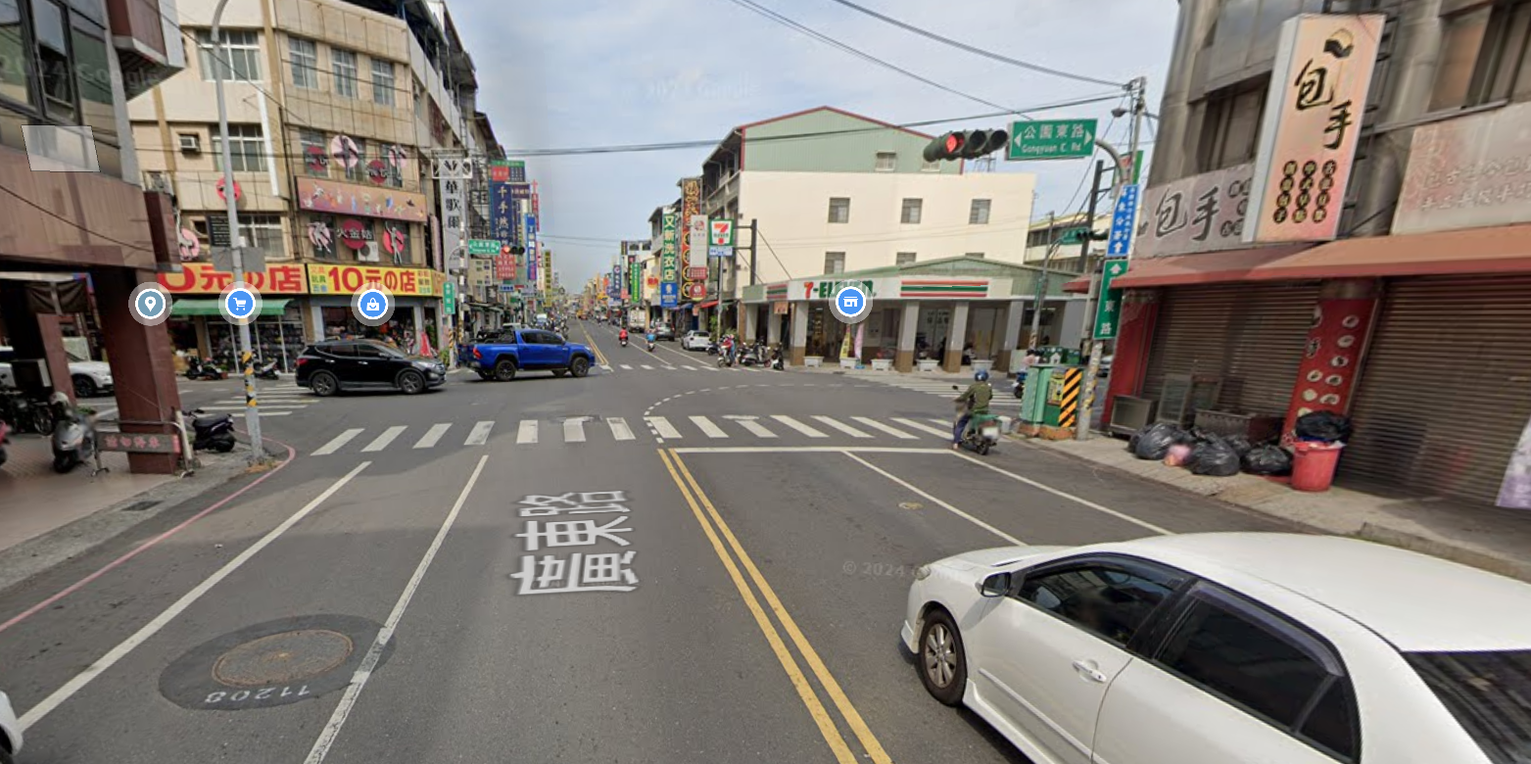red: (925, 130, 1010, 161), (501, 241, 527, 258)
